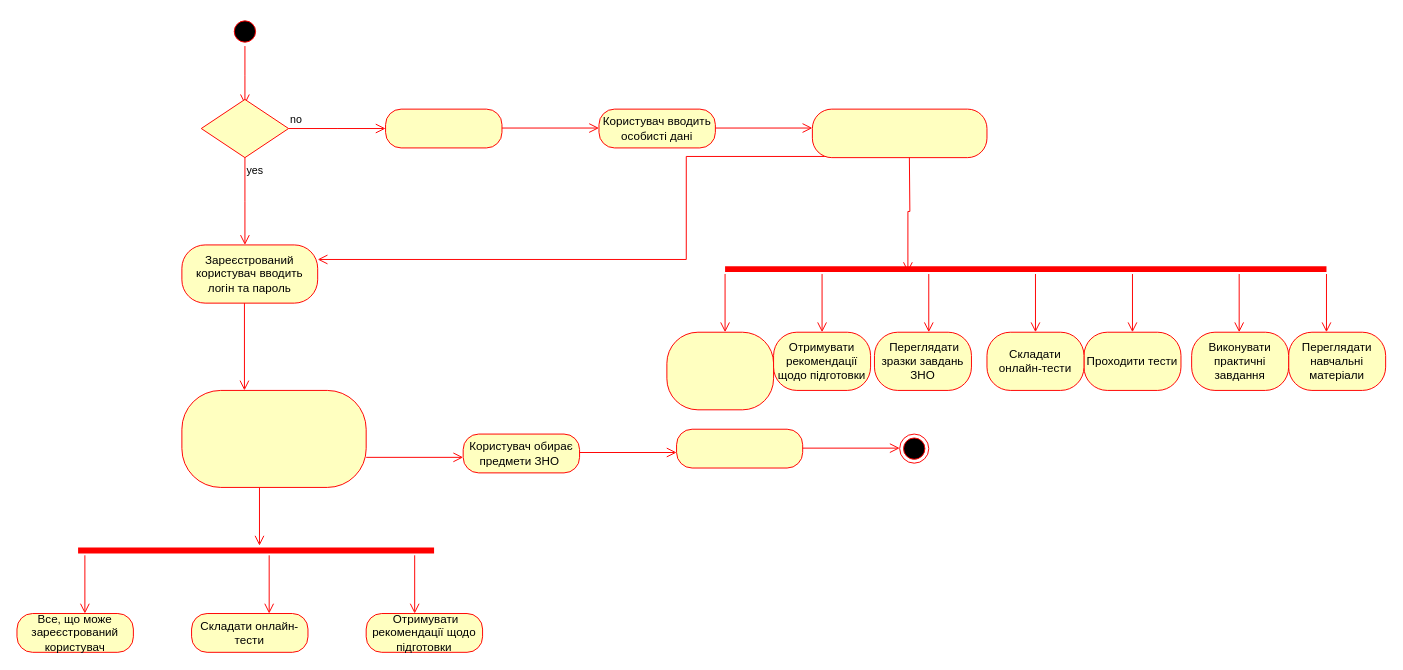
Some shapes in this 1403 by 670 pixel diagram are drawn without their labels. The shapes that lost their labels are listed below. From the top down, each one's centre as x and y in pixels, then its label:
(x=244, y=128): Вхід
(x=443, y=128): Реєстрація
(x=899, y=133): Зареєстрований користувач
(x=720, y=370): Спілкуватися з іншими користувачами та викладачами
(x=273, y=438): Авторизований користувач
(x=739, y=448): Проходить підготовку по обраному предметі
